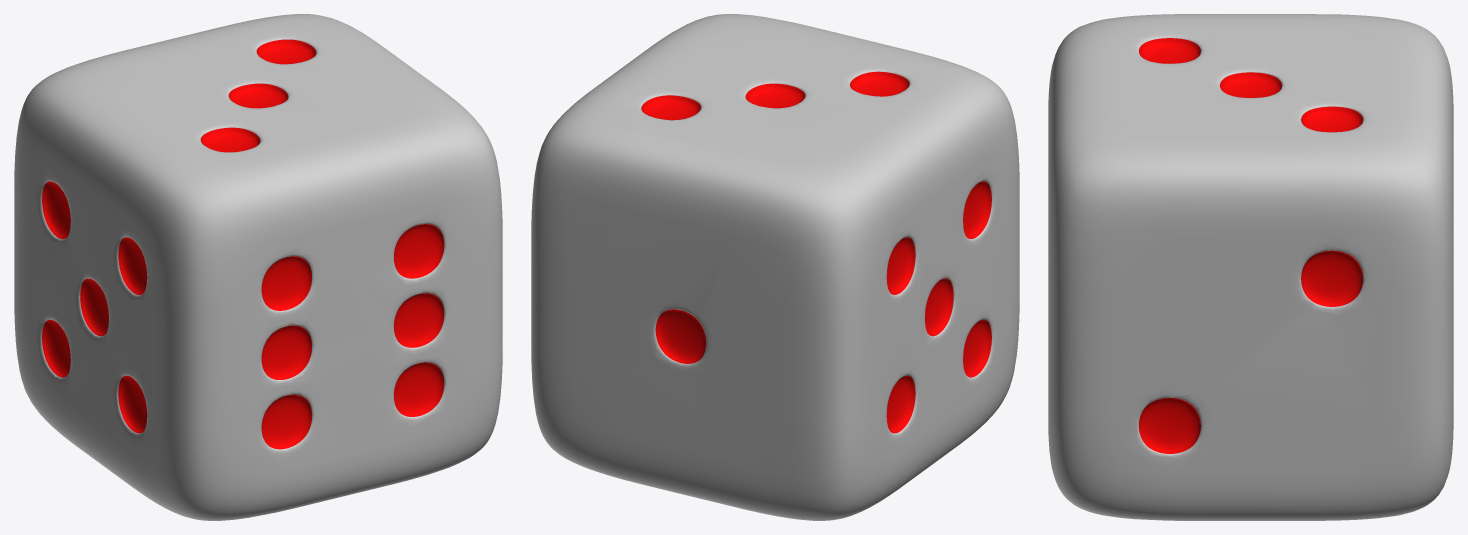
3 renders of one model, left to right at view 1: azimuth 30°, elevation 25°; view 2: azimuth 150°, elevation 25°; view 3: azimuth 270°, elevation 25°, orthographic. The views are drawn at different scales.
Parts seen in each view (by area): view 1: Dice; view 2: Dice; view 3: Dice.
Part boxes in pixels (x1,y1,x2,y2): Dice: (14,14,502,520); Dice: (531,14,1019,520); Dice: (1048,14,1453,520).
Bounding box in the file's own units: 2 × 2 × 2.
